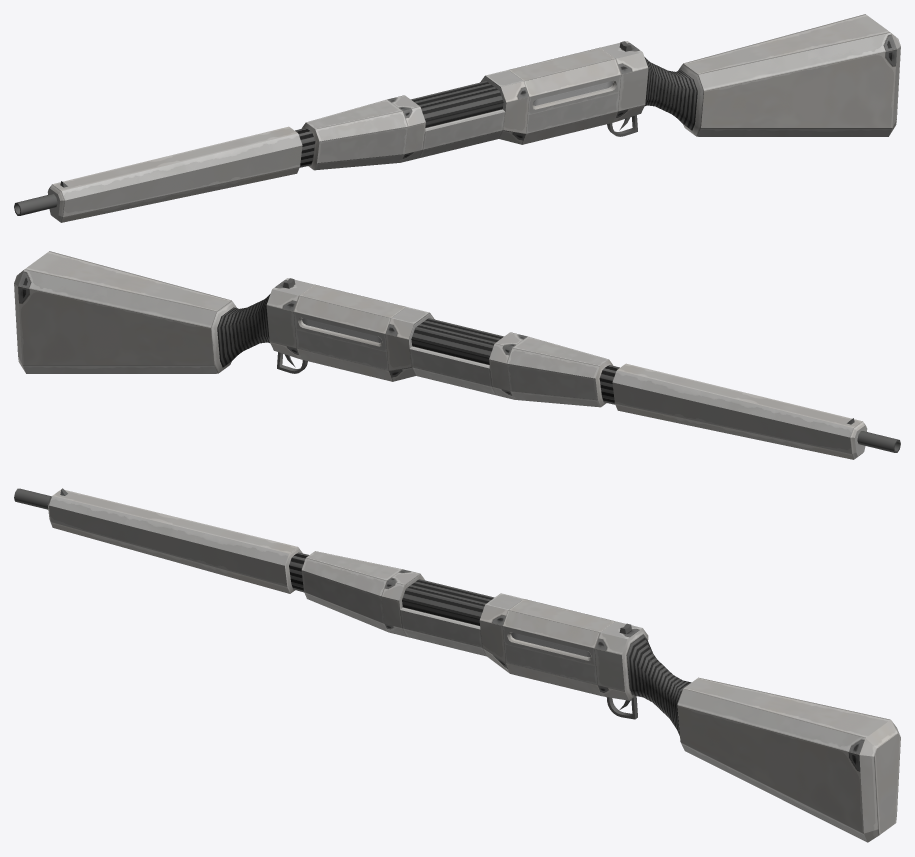
File: musket.fbx
3 renders of one model, top to bottom at view 1: azimuth 30°, elevation 25°; view 2: azimuth 150°, elevation 25°; view 3: azimuth 330°, elevation 25°, orthographic.
Visible parts, largest first — view 1: musket; view 2: musket; view 3: musket.
Part boxes in pixels (x1,y1,x2,y2): musket: (14,14,900,222); musket: (14,251,900,459); musket: (14,488,900,842).
Bounding box in the file's own units: 93.6 × 15.14 × 6.98.
